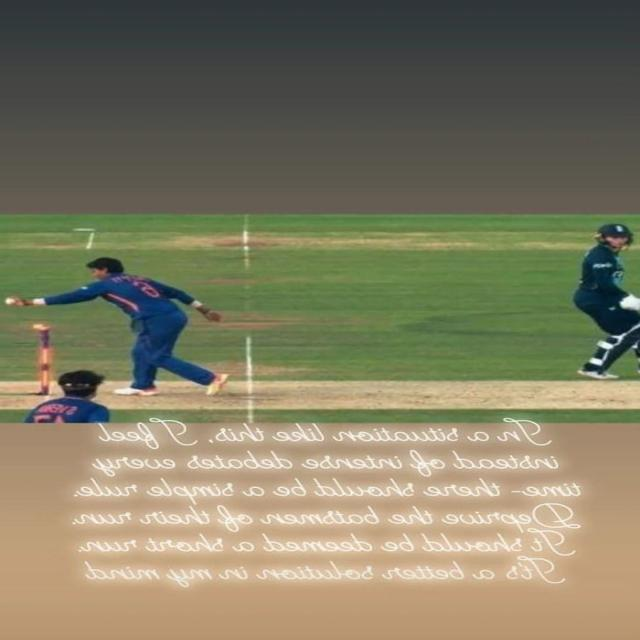stump: (24, 321, 58, 397)
